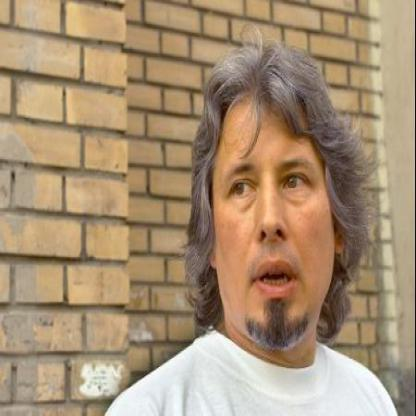face: (210, 57, 338, 354)
